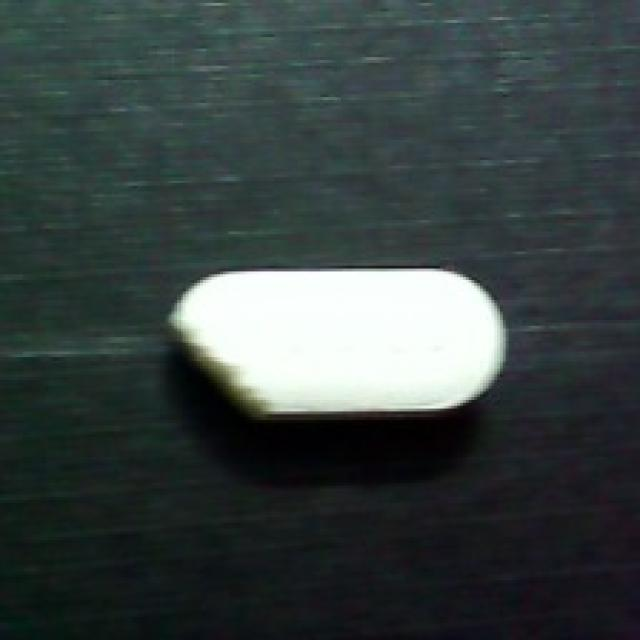defected: (163, 260, 517, 426)
